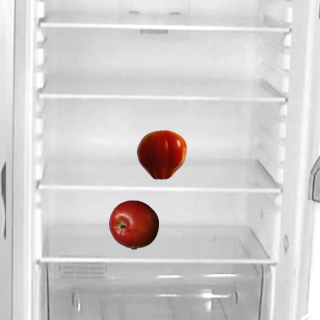Apple Braeburn: (108, 199, 158, 249)
Tomato 1: (136, 129, 186, 179)
